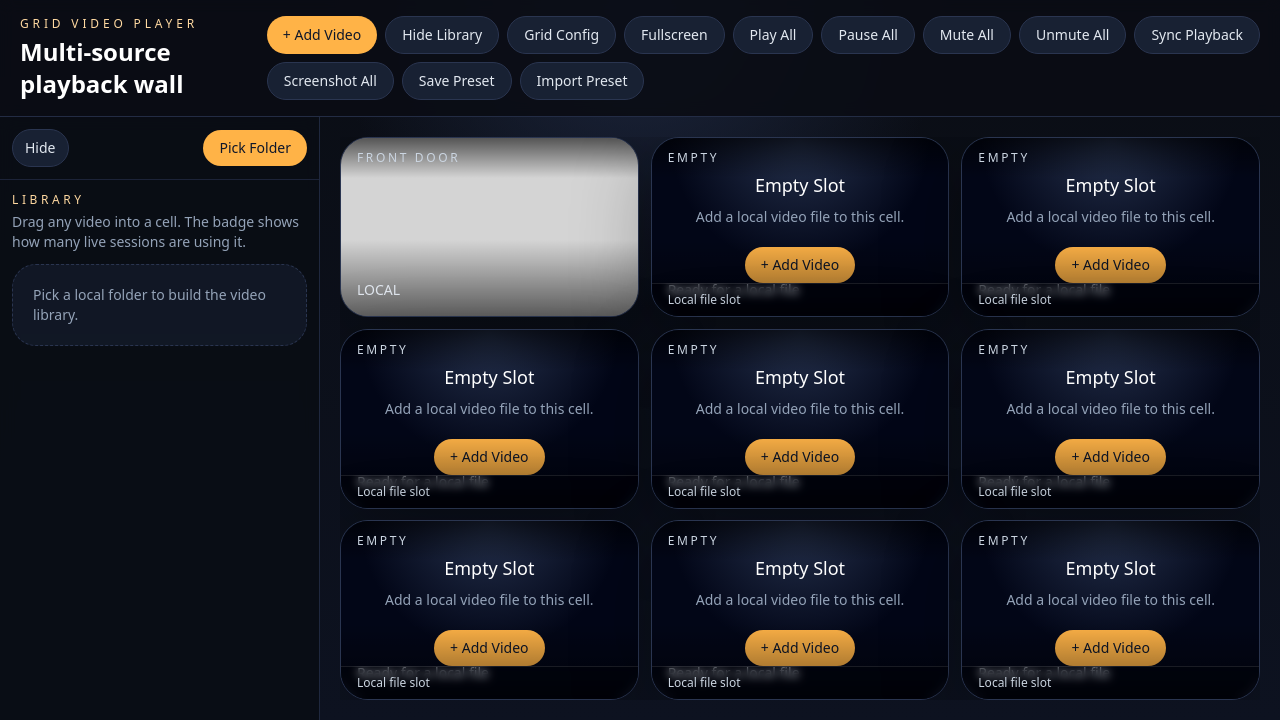
Scenario: App UI behavior › defaults to compact mode and lets the user switch back to expanded chrome
Check: the text "Front Door" is shown, box [357,150,460,166]
Step 1. Click the button "Grid Config" → (562, 35), box [507,16,616,54]
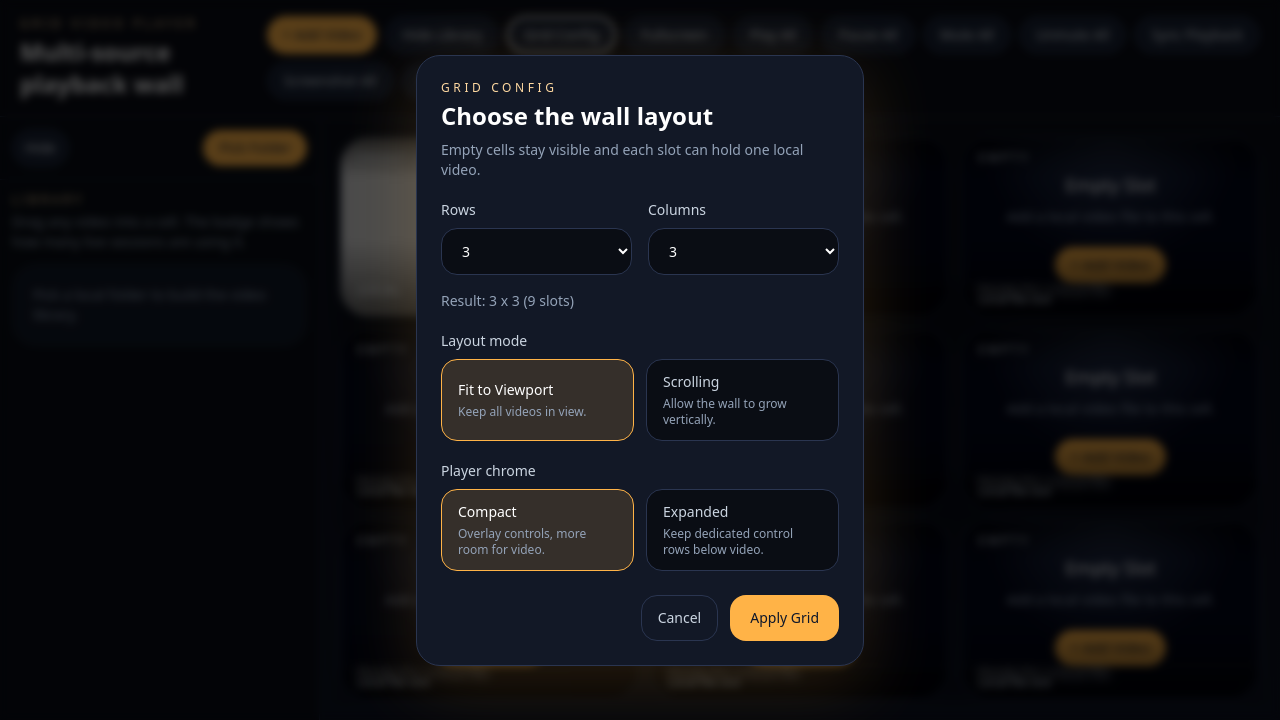
Step 2. Click the button "Expanded Keep dedicated control rows below video." → (742, 530), box [646,488,839,570]
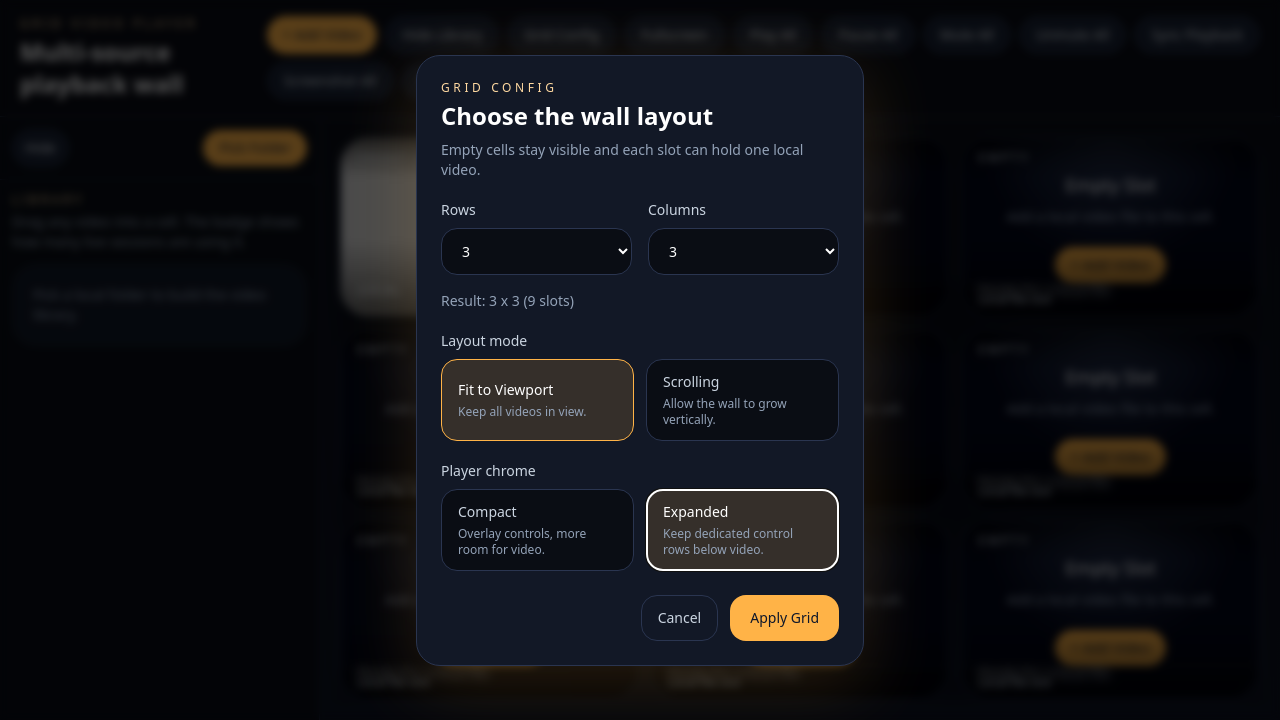
Step 3. Click the button "Apply Grid" → (785, 618), box [730,594,839,640]
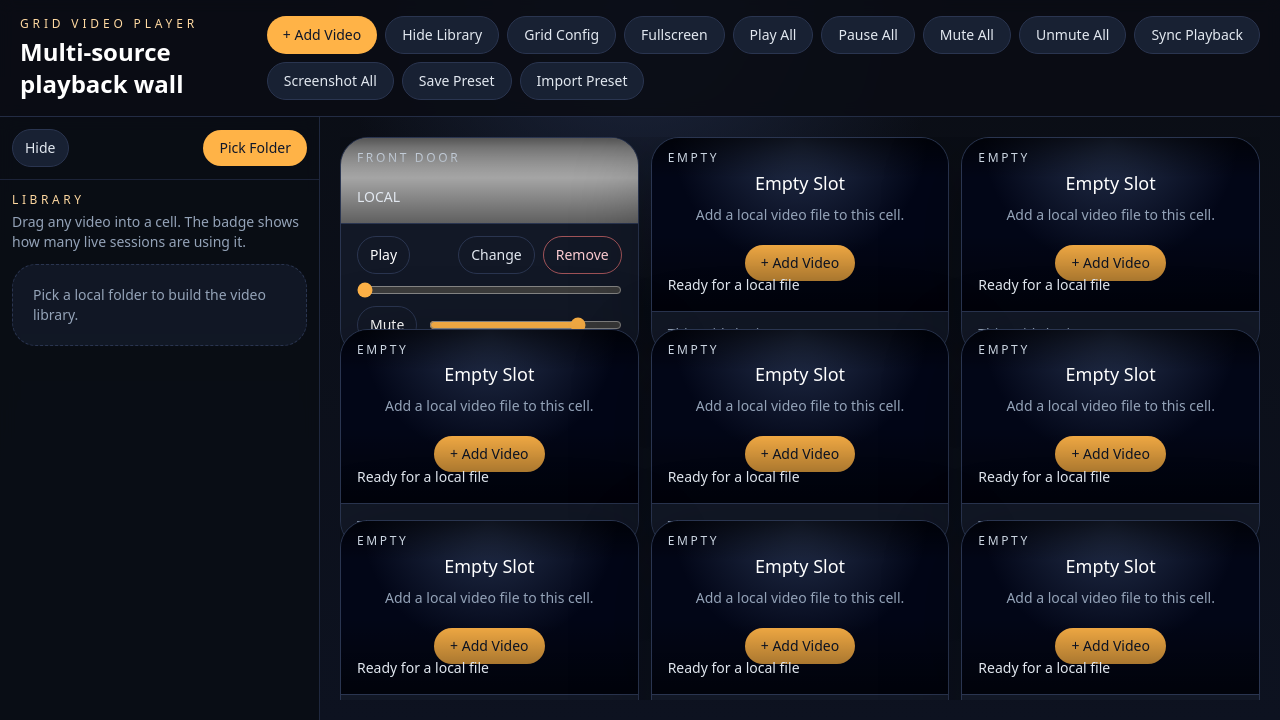
Check: the button "Change" is shown, box [458,236,535,274]
Check: the button "Mute" is shown, box [357,306,417,344]
